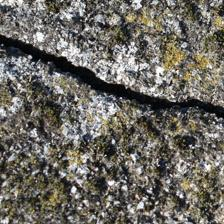Crack: (3, 16, 218, 106)
